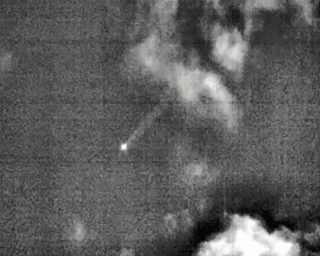AIRPLANE: (114, 79, 190, 156)
